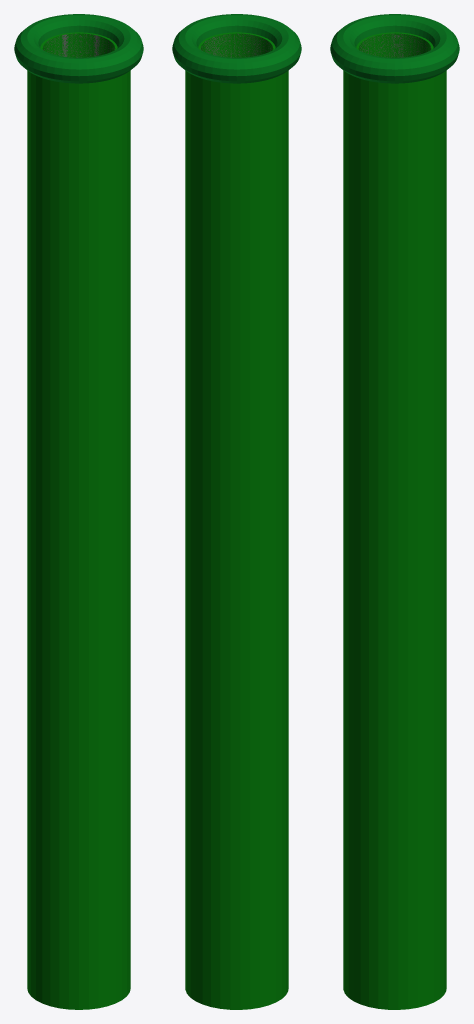
File: pipe.fbx
The picture shows the model from 3 angles, left to right: view 1: azimuth 90°, elevation 25°; view 2: azimuth 150°, elevation 25°; view 3: azimuth 330°, elevation 25°; orthographic projection.
Visible parts, largest first — view 1: Cylinder, Torus.002, Torus.001; view 2: Cylinder, Torus.002, Torus.001; view 3: Cylinder, Torus.002, Torus.001.
Part boxes in pixels (x1,y1,x2,y2): Cylinder: (27,32,130,1009); Torus.002: (14,14,143,83); Torus.001: (43,33,114,57); Cylinder: (185,32,288,1009); Torus.002: (172,14,301,83); Torus.001: (200,33,271,57); Cylinder: (343,32,446,1009); Torus.002: (330,14,459,83); Torus.001: (360,34,430,57).
Size of the model in its own units: 250 by 2025 by 250.
